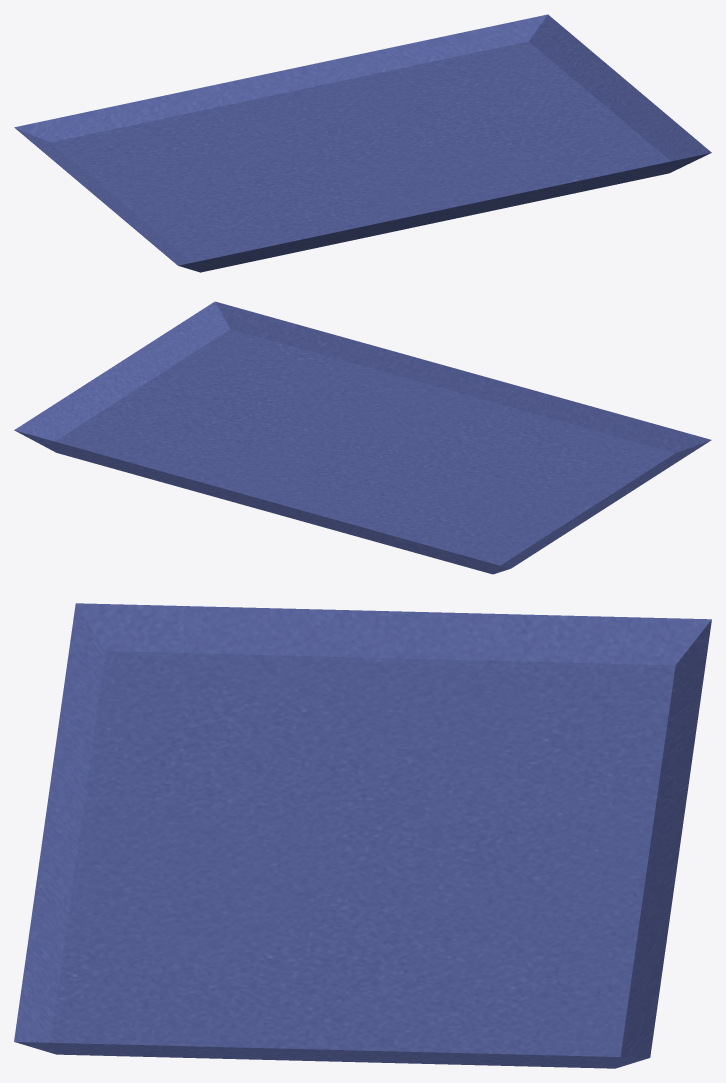
Rendered from bandeja variada.fbx.
3 renders of one model, top to bottom at view 1: azimuth 30°, elevation 25°; view 2: azimuth 150°, elevation 25°; view 3: azimuth 270°, elevation 25°, orthographic. The views are drawn at different scales.
Parts seen in each view (by area): view 1: Cube.002; view 2: Cube.002; view 3: Cube.002.
Part boxes in pixels (left/top/right/bottom): Cube.002: left=14, top=14, right=711, bottom=272; Cube.002: left=14, top=301, right=711, bottom=574; Cube.002: left=14, top=603, right=711, bottom=1068.
Size of the model in its own units: 59.7 by 2.36 by 38.74.
